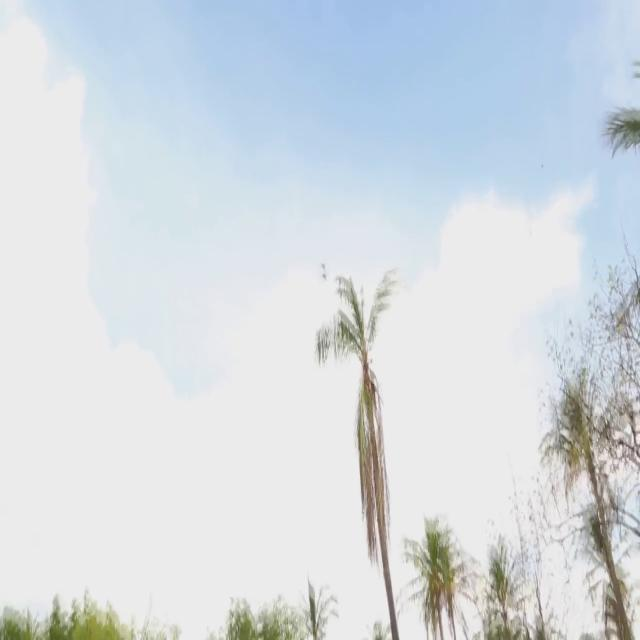drone: (318, 263, 332, 285)
